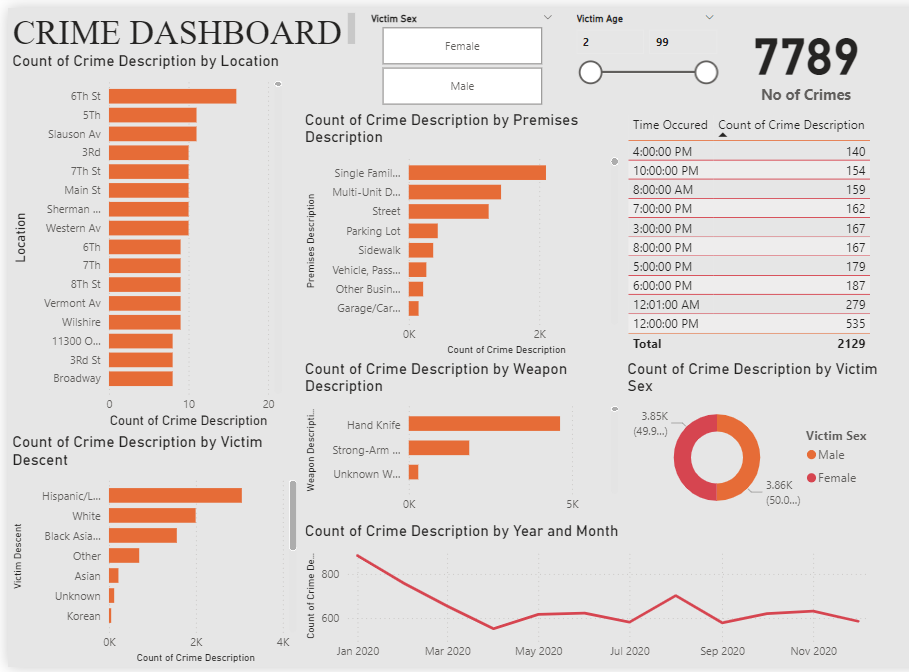

The page's visual inventory and layout, read from the dashboard file:
{"tool":"powerbi","page":{"name":"Page 1","canvas":[1280,720],"ordinal":0},"visuals":[{"type":"textbox","box":[0,0,384,48],"z":0},{"type":"slicer","fields":{"Values":["Crime_Data.Victim Age"]},"box":[608,0,176,112],"z":1000},{"type":"slicer","fields":{"Values":["Crime_Data.Victim Sex"]},"box":[384,0,224,112],"z":2000},{"type":"barChart","fields":{"Y":["CountNonNull(Crime_Data.Crime Description)"],"Category":["Crime_Data.Location"]},"box":[0,48,304,416],"z":3000},{"type":"barChart","fields":{"Y":["CountNonNull(Crime_Data.Crime Description)"],"Category":["Crime_Data.Premises Description"]},"box":[320,112,352,272],"z":4000},{"type":"barChart","fields":{"Category":["Crime_Data.Victim Descent"],"Y":["CountNonNull(Crime_Data.Crime Description)"]},"box":[0,464,320,256],"z":5000},{"type":"barChart","fields":{"Y":["CountNonNull(Crime_Data.Crime Description)"],"Category":["Crime_Data.Weapon Description"]},"box":[320,384,352,176],"z":6000},{"type":"lineChart","fields":{"Y":["CountNonNull(Crime_Data.Crime Description)"],"Category":["Crime_Data.Date Occcured.Variation.Date Hierarchy.Year","Crime_Data.Date Occcured.Variation.Date Hierarchy.Month"]},"box":[320,560,640,160],"z":7000},{"type":"donutChart","fields":{"Category":["Crime_Data.Victim Sex"],"Y":["CountNonNull(Crime_Data.Crime Description)"]},"box":[672,384,288,176],"z":8000},{"type":"tableEx","fields":{"Values":["Crime_Data.Time Occured","CountNonNull(Crime_Data.Crime Description)"]},"box":[672,112,288,272],"z":9000},{"type":"card","fields":{"Values":["Crime_Data.No of Crimes"]},"box":[784,0,176,112],"z":10000}]}

Visuals, with their boxes on the page's 1280x720 design canvas (x1, y1, x2, y2). These are canvas units, not pixel positions in the 909x672 screenshot, which may show the page scaled, cropped or inside an application window:
textbox: <region>0, 0, 384, 48</region>
slicer - Crime_Data.Victim Age: <region>608, 0, 784, 112</region>
slicer - Crime_Data.Victim Sex: <region>384, 0, 608, 112</region>
barChart - CountNonNull(Crime_Data.Crime Description) x Crime_Data.Location: <region>0, 48, 304, 464</region>
barChart - CountNonNull(Crime_Data.Crime Description) x Crime_Data.Premises Description: <region>320, 112, 672, 384</region>
barChart - Crime_Data.Victim Descent x CountNonNull(Crime_Data.Crime Description): <region>0, 464, 320, 720</region>
barChart - CountNonNull(Crime_Data.Crime Description) x Crime_Data.Weapon Description: <region>320, 384, 672, 560</region>
lineChart - CountNonNull(Crime_Data.Crime Description) x Crime_Data.Date Occcured.Variation.Date Hierarchy.Year: <region>320, 560, 960, 720</region>
donutChart - Crime_Data.Victim Sex x CountNonNull(Crime_Data.Crime Description): <region>672, 384, 960, 560</region>
tableEx - Crime_Data.Time Occured x CountNonNull(Crime_Data.Crime Description): <region>672, 112, 960, 384</region>
card - Crime_Data.No of Crimes: <region>784, 0, 960, 112</region>
